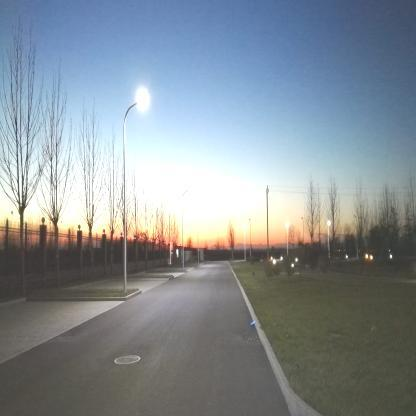light_pole: (124, 91, 148, 294), (182, 184, 193, 271), (197, 210, 204, 262), (242, 223, 247, 262), (327, 220, 331, 259), (286, 222, 290, 259)
